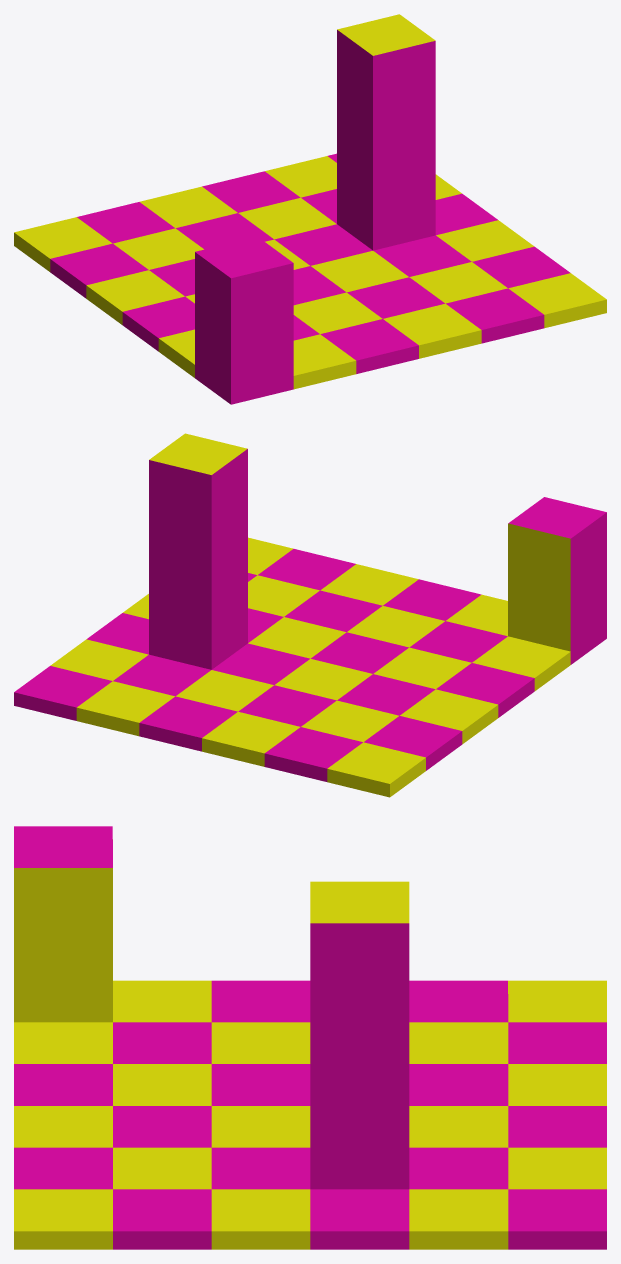
The model's file is szachownica2.glb.
3 renders of one model, top to bottom at view 1: azimuth 30°, elevation 25°; view 2: azimuth 150°, elevation 25°; view 3: azimuth 270°, elevation 25°, orthographic. The views are drawn at different scales.
Visible parts, largest first — view 1: Plane; view 2: Plane; view 3: Plane.
Part boxes in pixels (box(x1,y1,x2,y2)): Plane: box(14, 14, 606, 404); Plane: box(14, 433, 606, 797); Plane: box(14, 826, 606, 1249).
Size of the model in its own units: 20 by 10.58 by 20.
